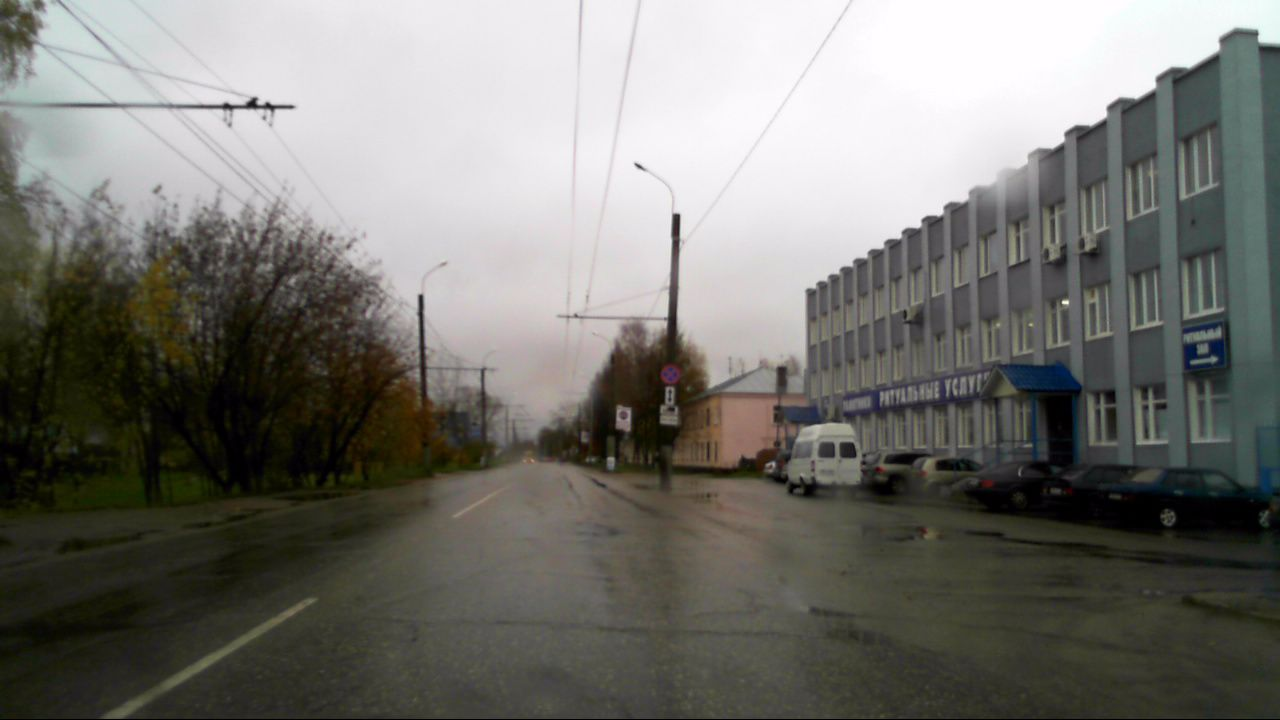No Parking: (659, 362, 682, 383)
